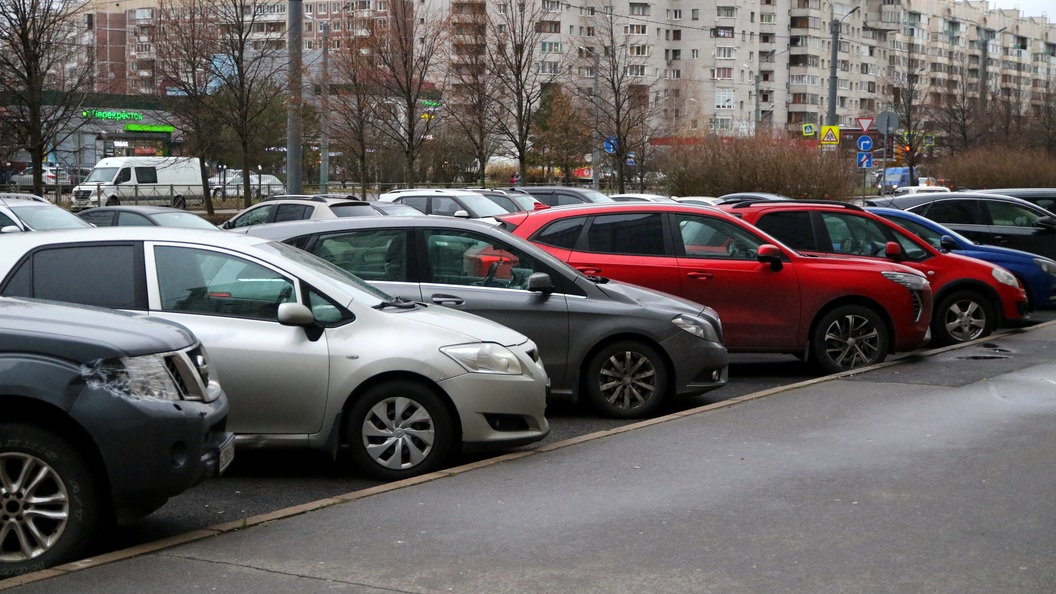Car: (0, 226, 549, 480), (227, 215, 728, 419), (493, 202, 933, 373), (0, 297, 234, 581), (713, 200, 1030, 345), (861, 208, 1056, 310), (865, 192, 1056, 260), (70, 156, 204, 211), (218, 193, 379, 230), (375, 189, 514, 226), (76, 204, 227, 231), (0, 193, 97, 233), (963, 188, 1056, 214), (454, 189, 548, 212), (516, 186, 616, 206), (4, 164, 71, 193), (210, 174, 286, 197), (554, 153, 618, 180), (464, 156, 520, 179), (879, 166, 920, 195), (207, 169, 257, 188), (367, 201, 430, 216), (625, 172, 669, 188), (892, 185, 953, 196), (607, 194, 680, 203), (720, 192, 796, 200), (670, 196, 722, 206), (934, 178, 953, 189), (871, 169, 883, 185), (918, 177, 935, 185)
